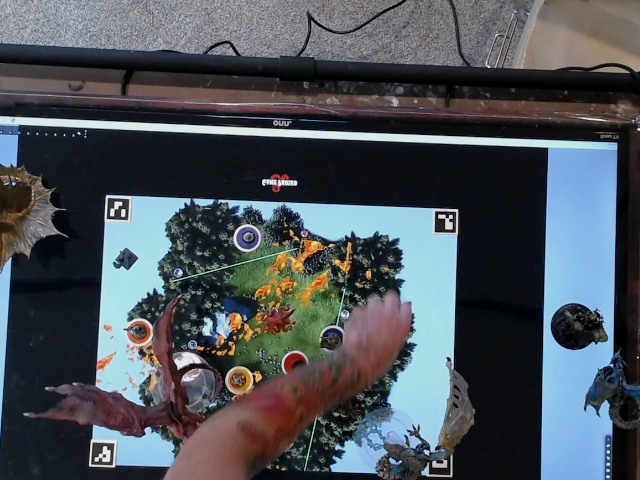blue: (318, 319, 352, 354)
orange: (120, 314, 156, 351)
red: (277, 348, 314, 378)
violet: (231, 222, 264, 256)
yellow: (222, 363, 260, 397)
